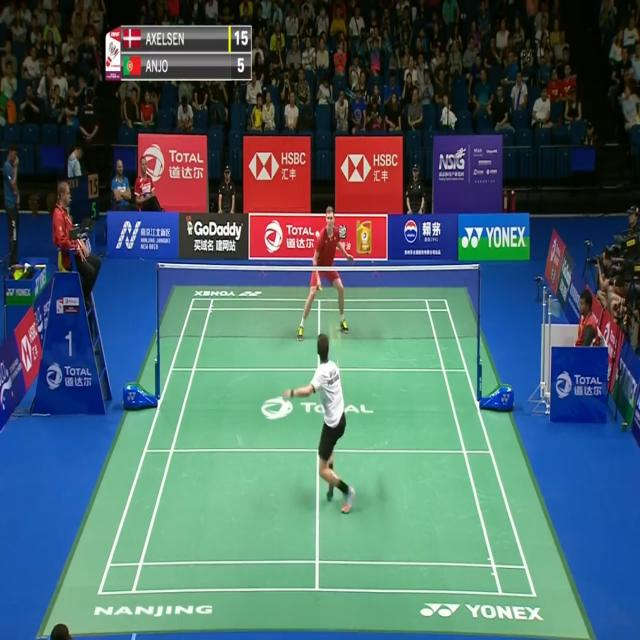Player1: (282, 331, 360, 517)
Player2: (296, 204, 350, 338)
